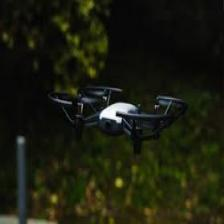drone: (69, 88, 151, 149)
